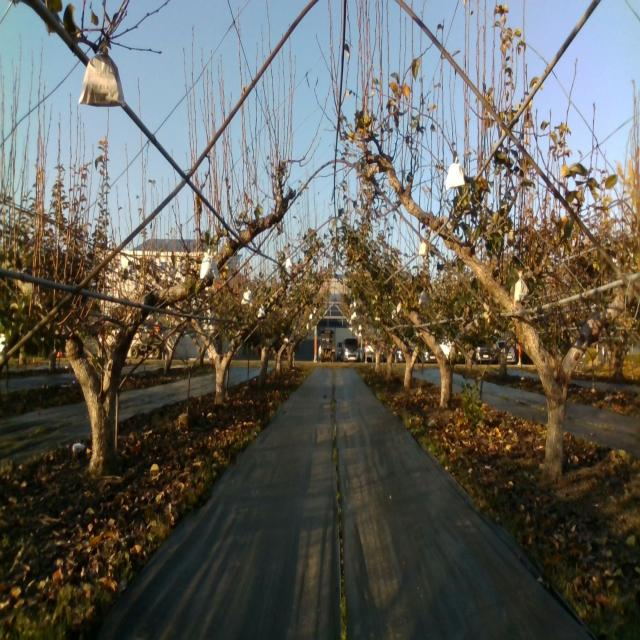pearbags: (76, 44, 126, 109), (444, 157, 464, 190), (514, 270, 530, 303), (200, 255, 219, 281), (241, 286, 254, 306)
